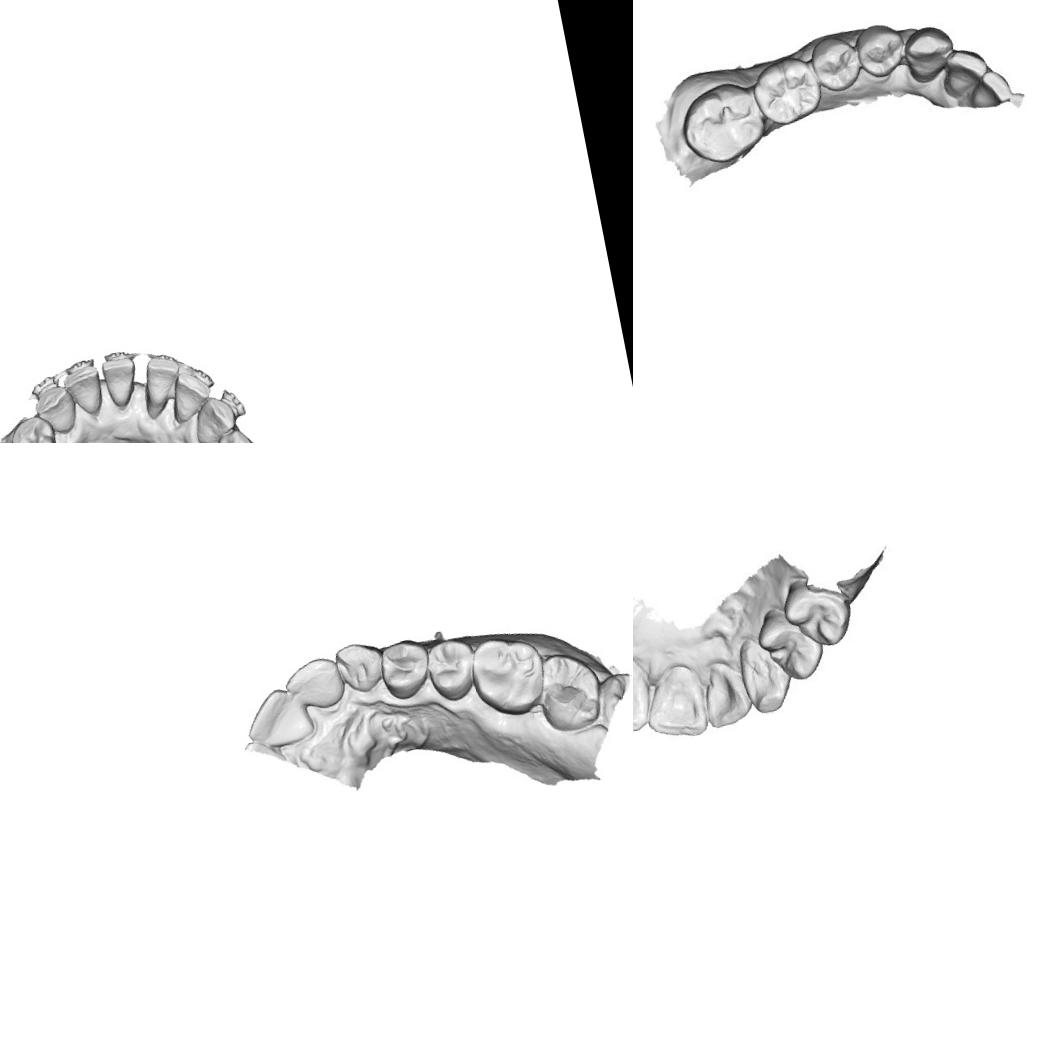canine: (738, 636, 796, 718), (898, 20, 958, 86), (332, 636, 388, 696), (29, 380, 81, 440), (187, 391, 240, 443)
incisor: (236, 680, 319, 756), (637, 666, 710, 745), (279, 652, 348, 717), (698, 660, 756, 728), (934, 43, 992, 102), (960, 62, 1022, 113), (165, 366, 216, 425), (138, 350, 187, 408), (59, 362, 107, 418), (98, 352, 143, 410), (633, 663, 656, 740)
molar: (674, 76, 768, 170), (464, 628, 552, 722), (532, 646, 608, 736), (747, 49, 827, 129)
premolar: (780, 576, 854, 650), (756, 602, 824, 682), (420, 632, 483, 706), (849, 16, 914, 84), (374, 634, 435, 704), (807, 28, 866, 95), (5, 410, 61, 443), (203, 423, 262, 443)
